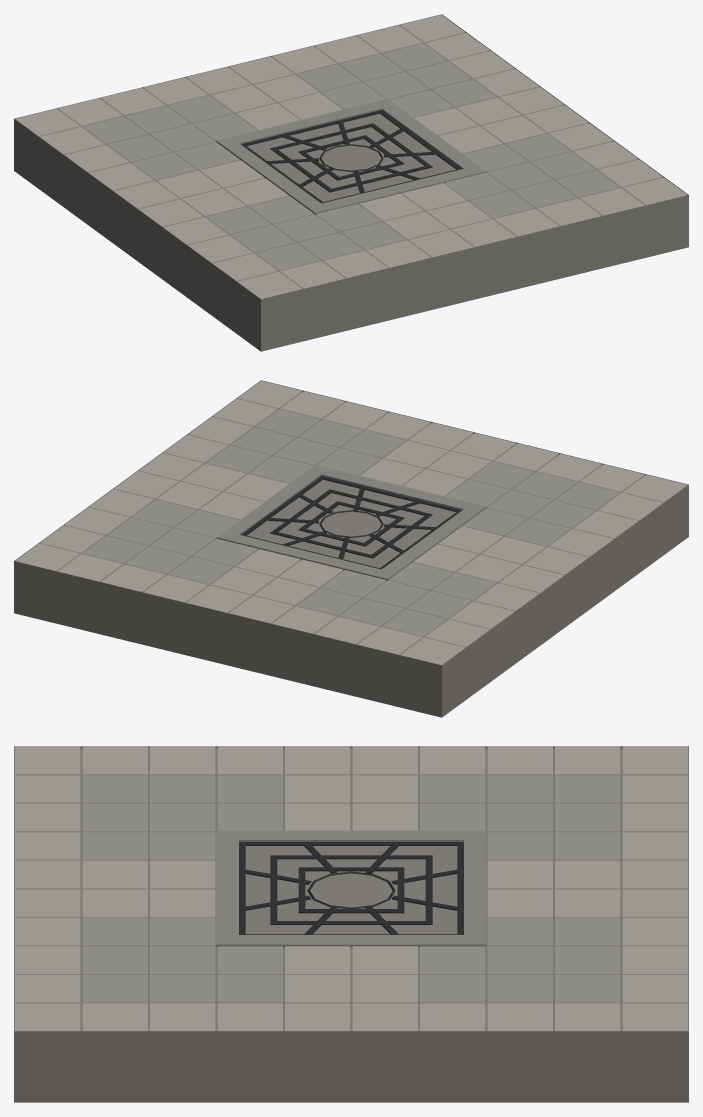
Rendered from SC_Gnd_Tree_Pit.gltf.
The picture shows the model from 3 angles, top to bottom: view 1: azimuth 30°, elevation 25°; view 2: azimuth 150°, elevation 25°; view 3: azimuth 270°, elevation 25°; orthographic projection. The views are drawn at different scales.
Visible parts, largest first — view 1: SC_Gnd_Tree_Pit; view 2: SC_Gnd_Tree_Pit; view 3: SC_Gnd_Tree_Pit.
Boxes of the visible parts, x1,y1,x2,y2 form: SC_Gnd_Tree_Pit: (14,14,688,351); SC_Gnd_Tree_Pit: (14,380,688,717); SC_Gnd_Tree_Pit: (14,746,688,1102).
Size of the model in its own units: 3 by 0.356 by 3.
1 material, 1 textured.
